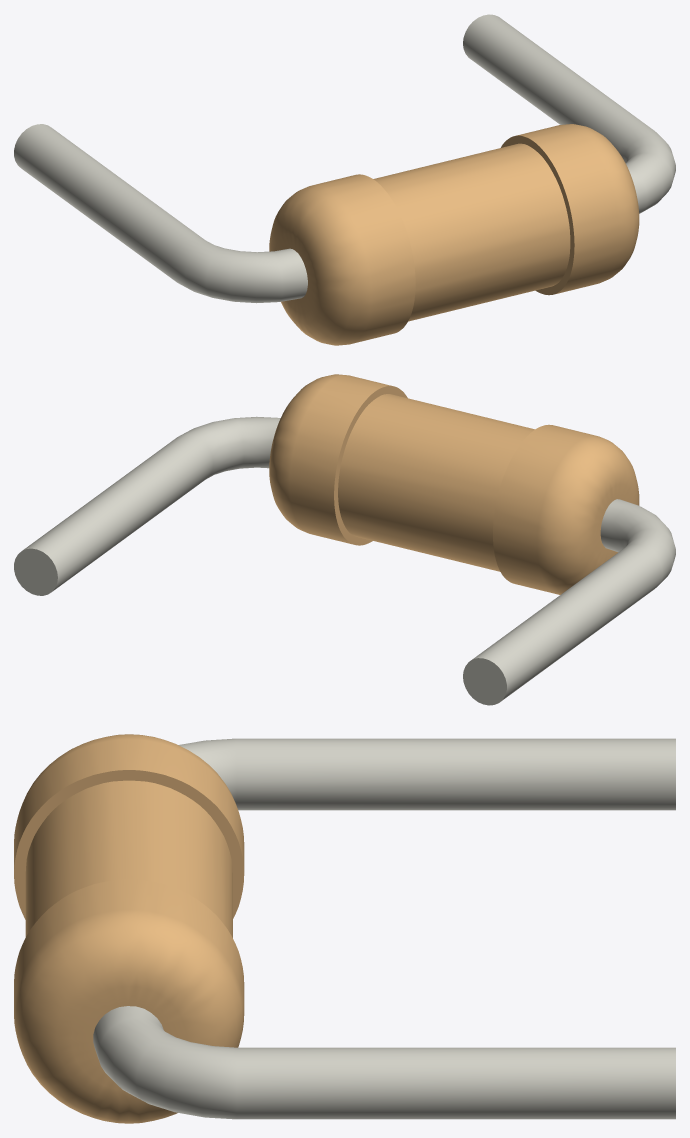
The model's file is r-axial-din0204-l3.6-d1.6-p5.08-h.glb.
3 views of the same model, one above another, from view 1: azimuth 30°, elevation 25°; view 2: azimuth 150°, elevation 25°; view 3: azimuth 270°, elevation 25° (orthographic). The views are drawn at different scales.
Visible parts, largest first — view 1: RES-THT-01, PIN-01; view 2: RES-THT-01, PIN-01; view 3: PIN-01, RES-THT-01.
Part boxes in pixels (<box>): RES-THT-01: <box>269,124,639,345</box>; PIN-01: <box>14,14,675,303</box>; RES-THT-01: <box>269,374,639,594</box>; PIN-01: <box>14,416,675,705</box>; PIN-01: <box>93,738,675,1119</box>; RES-THT-01: <box>14,734,244,1123</box>.
Size of the model in its own units: 5.58 by 1.6 by 4.6.
